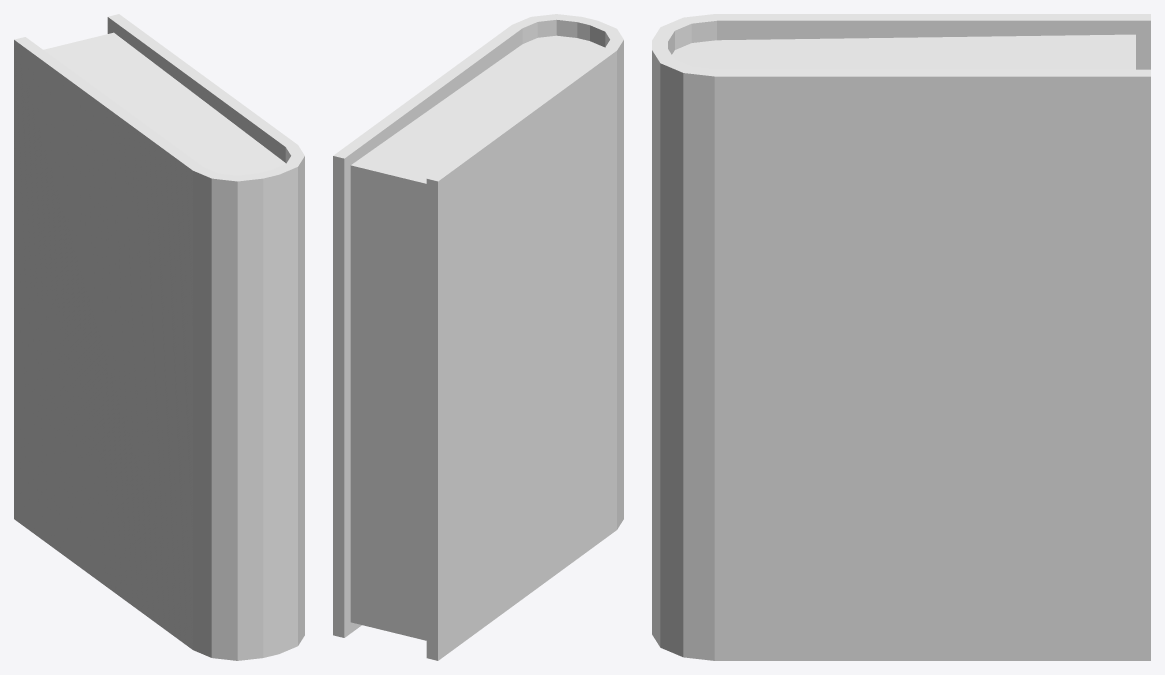
File: CookBook.fbx
The picture shows the model from 3 angles, left to right: view 1: azimuth 30°, elevation 25°; view 2: azimuth 150°, elevation 25°; view 3: azimuth 270°, elevation 25°; orthographic projection. The views are drawn at different scales.
Visible parts, largest first — view 1: Cookbook; view 2: Cookbook; view 3: Cookbook.
Part boxes in pixels (x1,y1,x2,y2): Cookbook: (14, 14, 304, 660); Cookbook: (333, 14, 623, 660); Cookbook: (652, 14, 1150, 660).
Size of the model in its own units: 7.03 by 30.64 by 23.71.
1 material, 1 textured.
